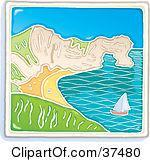boat: (107, 89, 133, 118)
